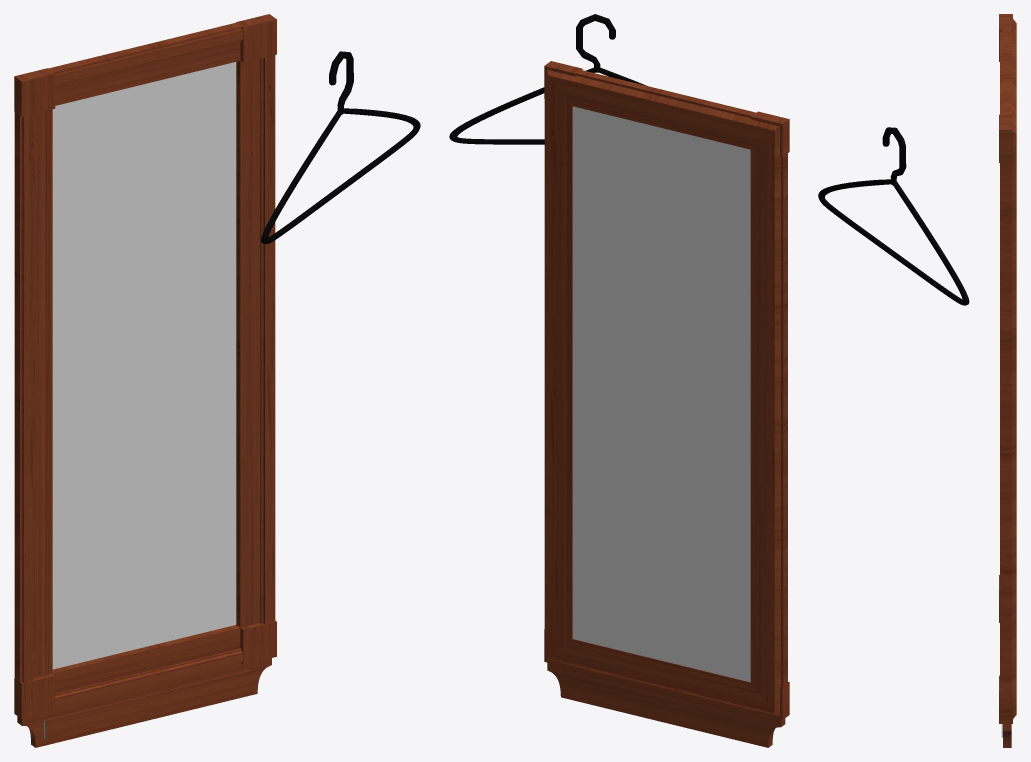
Rendered from mirror.glb.
3 renders of one model, left to right at view 1: azimuth 30°, elevation 25°; view 2: azimuth 150°, elevation 25°; view 3: azimuth 270°, elevation 25°, orthographic. The views are drawn at different scales.
Visible parts, largest first — view 1: Object_9, Object_7, Object_3; view 2: Object_9, Object_7, Object_3; view 3: Object_7, Object_3.
Boxes of the visible parts, x1,y1,x2,y2 form: Object_9: (44,62,236,738); Object_7: (14,14,276,747); Object_3: (261,51,420,244); Object_9: (572,106,750,682); Object_7: (544,61,789,747); Object_3: (449,14,646,144); Object_7: (999,14,1016,747); Object_3: (818,127,969,305).
Size of the model in its own units: 0.6776 by 1.15 by 0.3282.
3 materials, 1 textured.
